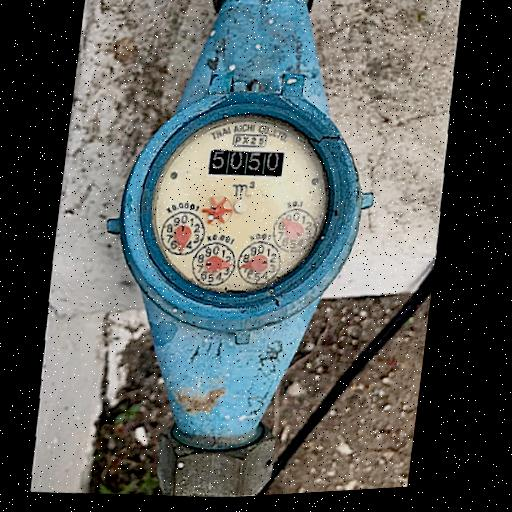0: (263, 152, 284, 177), (227, 150, 247, 176)
5: (245, 151, 265, 176), (210, 150, 229, 175)
border_water_meter_number: (207, 145, 284, 182)
